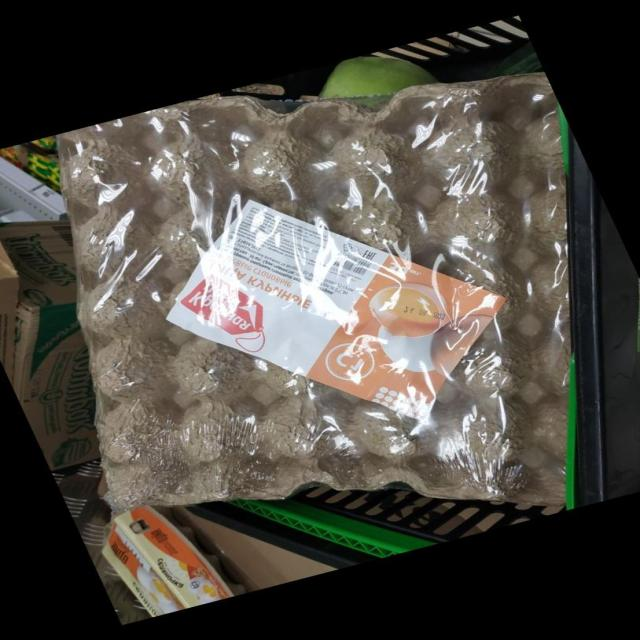Apple: (319, 56, 435, 98)
Eggs: (58, 73, 569, 509)
